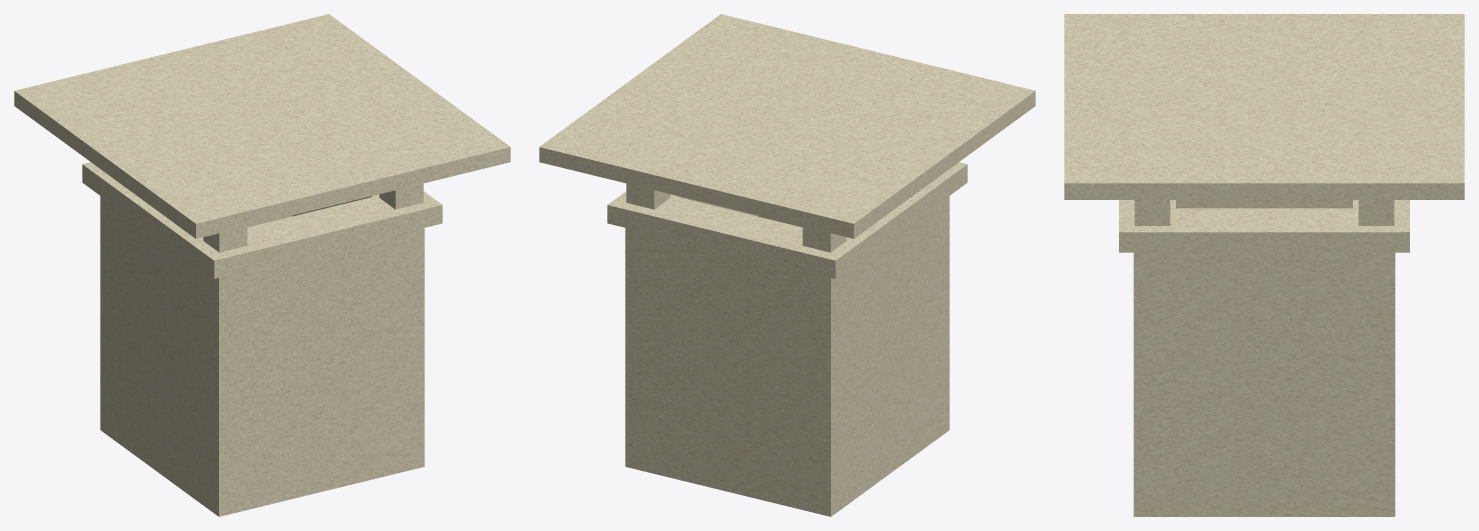
File: sh-scopia-chimney.glb
The picture shows the model from 3 angles, left to right: view 1: azimuth 30°, elevation 25°; view 2: azimuth 150°, elevation 25°; view 3: azimuth 270°, elevation 25°; orthographic projection. The views are drawn at different scales.
Visible parts, largest first — view 1: BaseChimney_Cube.002; view 2: BaseChimney_Cube.002; view 3: BaseChimney_Cube.002.
Part boxes in pixels (x1=…): BaseChimney_Cube.002: x1=14, y1=14, x2=510, y2=516; BaseChimney_Cube.002: x1=539, y1=14, x2=1035, y2=516; BaseChimney_Cube.002: x1=1064, y1=14, x2=1464, y2=516.
Size of the model in its own units: 1 by 1 by 1.
1 material, 1 textured.
